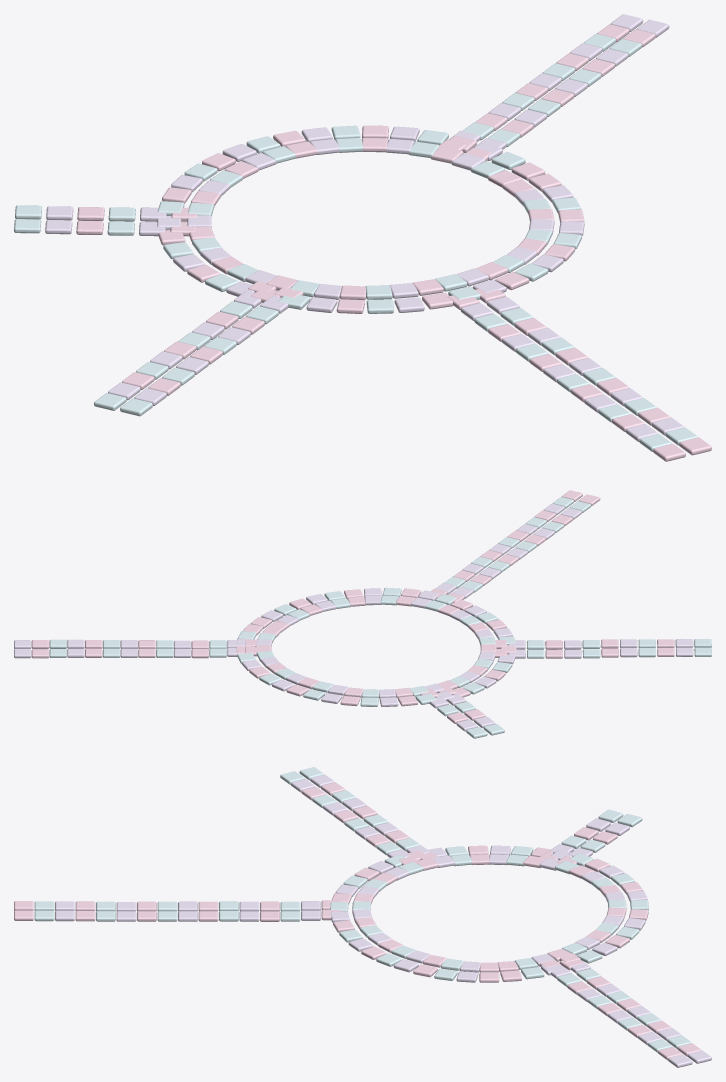
File: plaza-paths.glb
The picture shows the model from 3 angles, top to bottom: view 1: azimuth 30°, elevation 25°; view 2: azimuth 150°, elevation 25°; view 3: azimuth 270°, elevation 25°; orthographic projection. The views are drawn at different scales.
Parts seen in each view (by area): view 1: tiles_ffc4e1, tiles_c9f2ff, tiles_e6d4ff; view 2: tiles_ffc4e1, tiles_c9f2ff, tiles_e6d4ff; view 3: tiles_ffc4e1, tiles_c9f2ff, tiles_e6d4ff.
Boxes of the visible parts, x1,y1,x2,y2 form: tiles_ffc4e1: (76,24,711,461); tiles_c9f2ff: (14,34,697,451); tiles_e6d4ff: (45,14,684,441); tiles_ffc4e1: (31,490,674,723); tiles_c9f2ff: (49,497,711,738); tiles_e6d4ff: (14,503,693,731); tiles_ffc4e1: (14,782,701,1060); tiles_c9f2ff: (34,767,691,1052); tiles_e6d4ff: (55,774,711,1067).
Size of the model in its own units: 26.36 by 0.4525 by 26.09.
